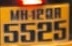character: (36, 21, 53, 41), (20, 22, 36, 43), (3, 23, 19, 43), (53, 20, 67, 41)
